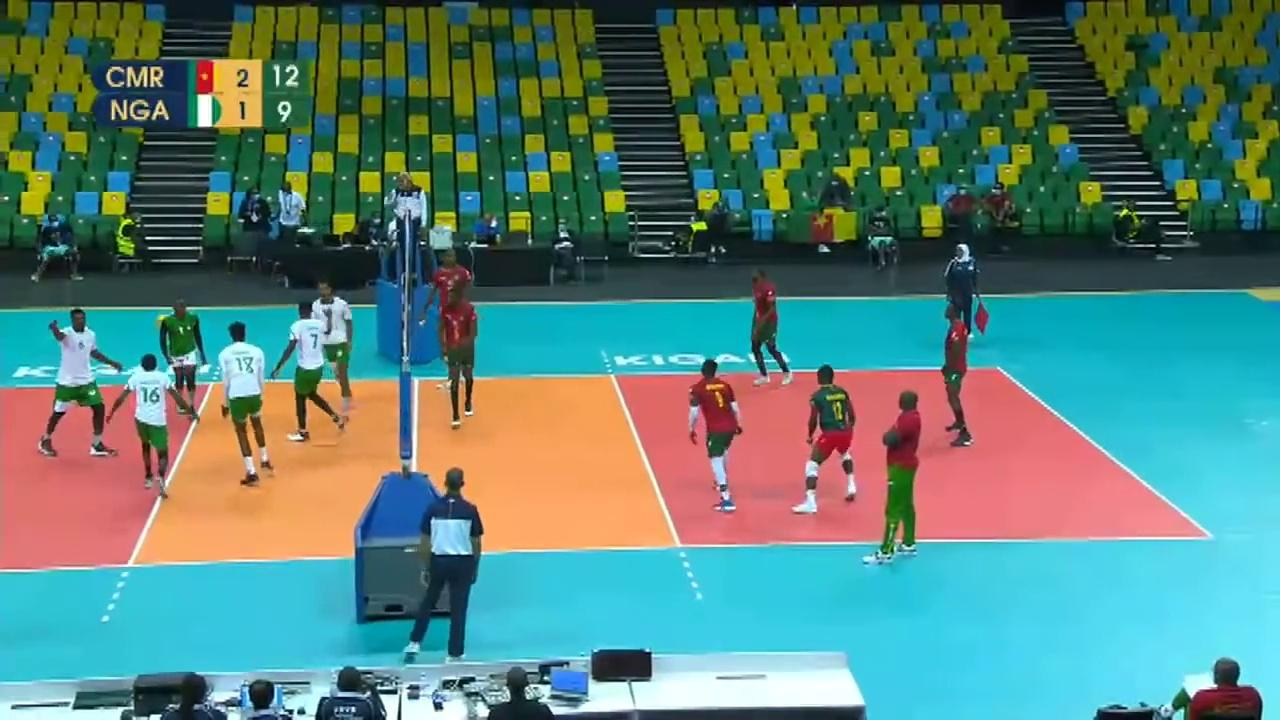player: (39, 313, 127, 455), (279, 299, 351, 442), (218, 321, 276, 481), (690, 363, 748, 511), (797, 369, 857, 512), (125, 355, 190, 487), (932, 304, 987, 459), (301, 281, 359, 411), (151, 294, 209, 419), (426, 249, 474, 396), (439, 286, 485, 419), (744, 269, 790, 387)
refree: (399, 471, 487, 657), (387, 165, 430, 272), (944, 244, 981, 344)
